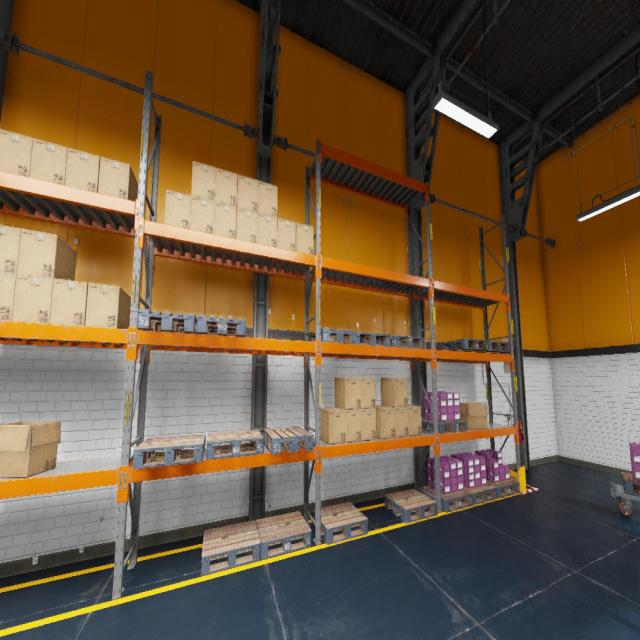box: (0, 420, 61, 478), (17, 229, 76, 280), (85, 283, 131, 329), (12, 275, 53, 324), (29, 138, 68, 185), (50, 278, 88, 326), (98, 156, 138, 201), (0, 128, 33, 176), (65, 148, 100, 192), (164, 189, 191, 229), (0, 224, 21, 274), (191, 160, 216, 201), (321, 407, 346, 444), (190, 196, 214, 234), (215, 167, 237, 207), (383, 406, 409, 438), (335, 377, 361, 409), (237, 174, 258, 212), (214, 202, 236, 238), (0, 272, 16, 321), (381, 378, 408, 407), (236, 208, 258, 242), (258, 180, 278, 217), (460, 402, 488, 428), (257, 212, 277, 246), (376, 406, 395, 438), (277, 218, 296, 250), (296, 222, 314, 254), (346, 409, 361, 442), (360, 378, 376, 408), (362, 408, 376, 441), (408, 404, 422, 436)
pallets: (201, 520, 261, 576), (256, 511, 312, 559), (132, 434, 205, 470), (313, 502, 368, 545), (385, 489, 437, 523), (206, 430, 263, 459), (137, 309, 197, 333), (264, 426, 313, 454), (422, 486, 472, 512), (197, 314, 246, 336), (310, 328, 357, 344), (462, 484, 498, 504), (486, 479, 520, 498), (442, 338, 488, 352), (422, 419, 466, 433), (469, 341, 510, 353), (356, 332, 391, 346), (621, 472, 640, 496), (390, 335, 424, 348)
